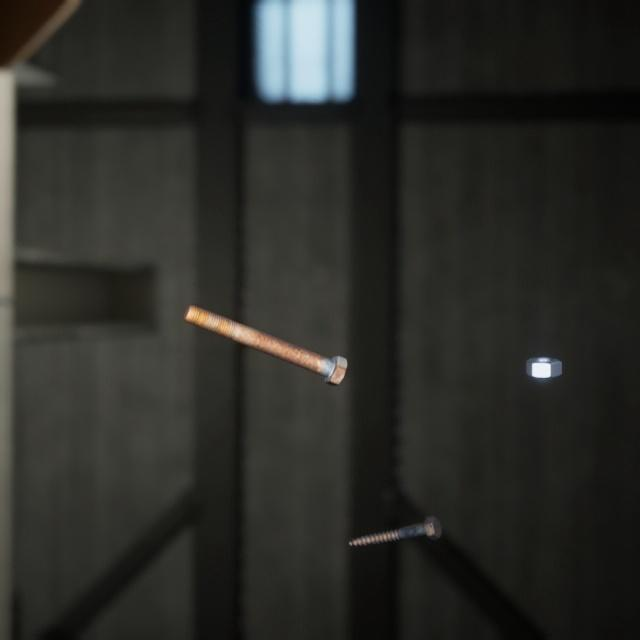bolt: (178, 281, 351, 371), (344, 490, 445, 529)
nut: (521, 334, 566, 363)
